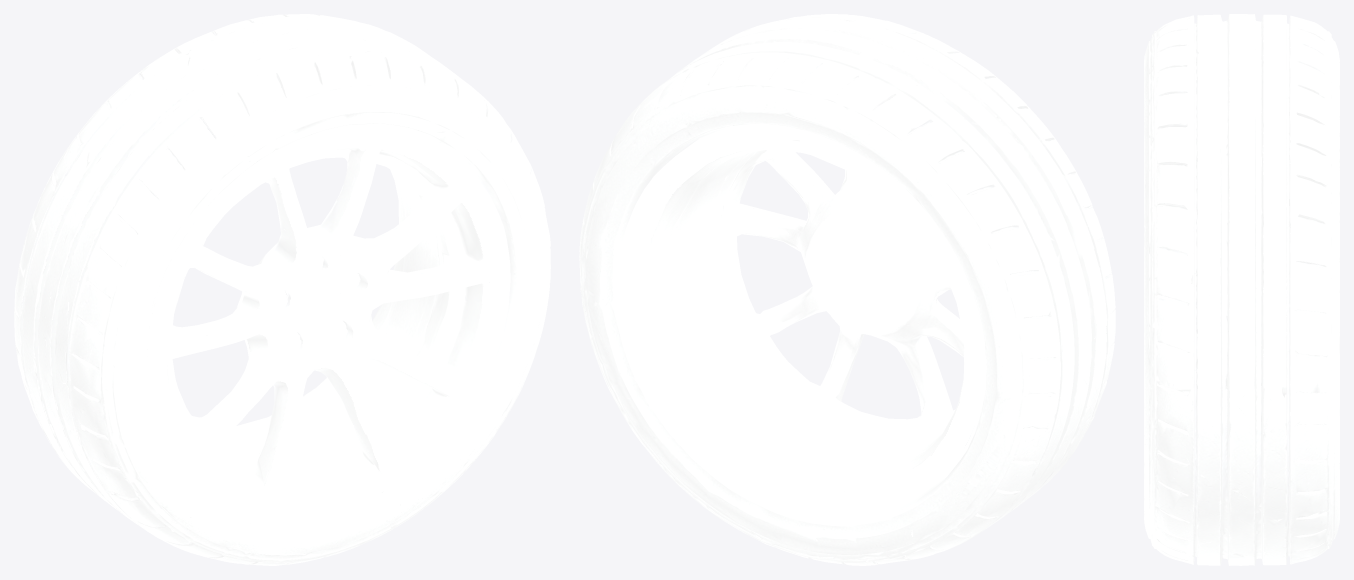
The model's file is Meshy_AI_Twin_Alloy_Tires_20261116_texture_41460tris.glb.
3 renders of one model, left to right at view 1: azimuth 30°, elevation 25°; view 2: azimuth 150°, elevation 25°; view 3: azimuth 270°, elevation 25°, orthographic.
Parts seen in each view (by area): view 1: Mesh_0; view 2: Mesh_0; view 3: Mesh_0.
Boxes of the visible parts, left/top/right/bottom form: Mesh_0: left=14, top=14, right=550, bottom=565; Mesh_0: left=579, top=14, right=1115, bottom=565; Mesh_0: left=1144, top=14, right=1339, bottom=565.
Bounding box in the file's own units: 190 × 190 × 67.57.
1 material, 1 textured.
